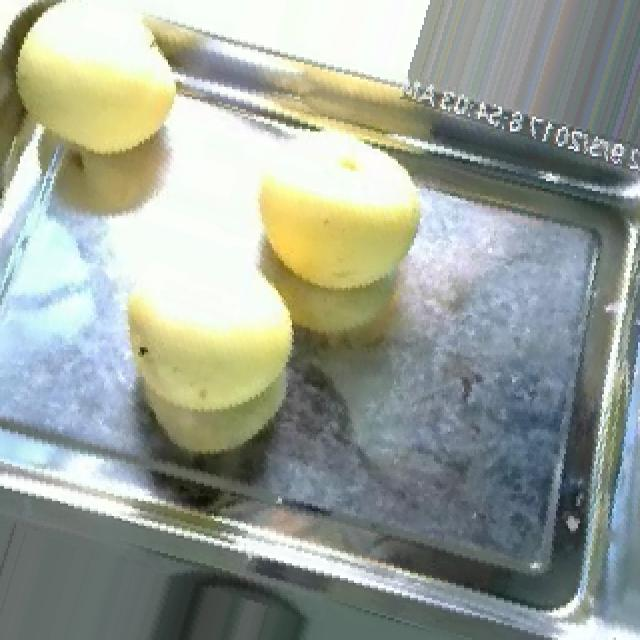Fruit: (94, 266, 324, 477), (230, 144, 448, 312), (0, 0, 196, 179)
